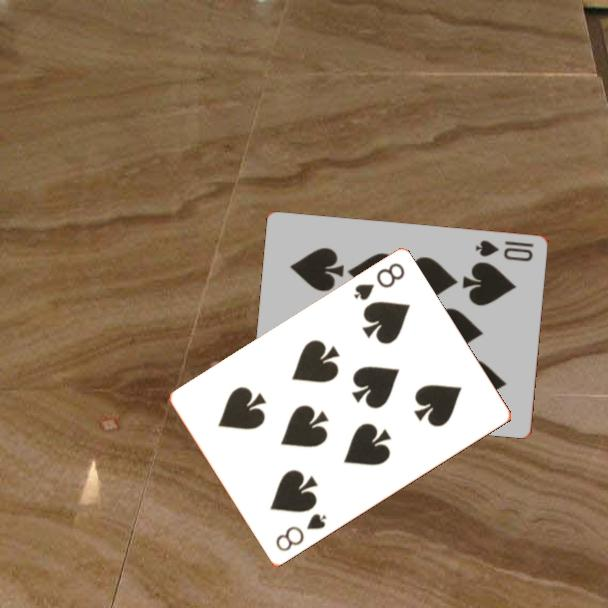s08: (272, 510, 330, 555), (350, 260, 408, 304)
s10: (472, 237, 536, 264)
